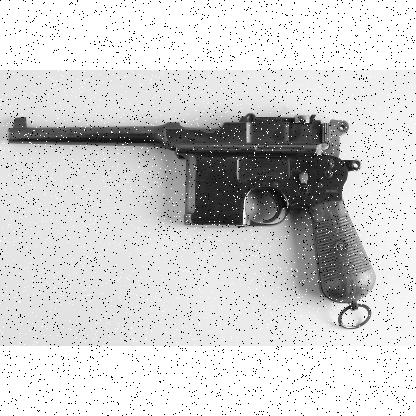gun: (7, 111, 374, 327)
